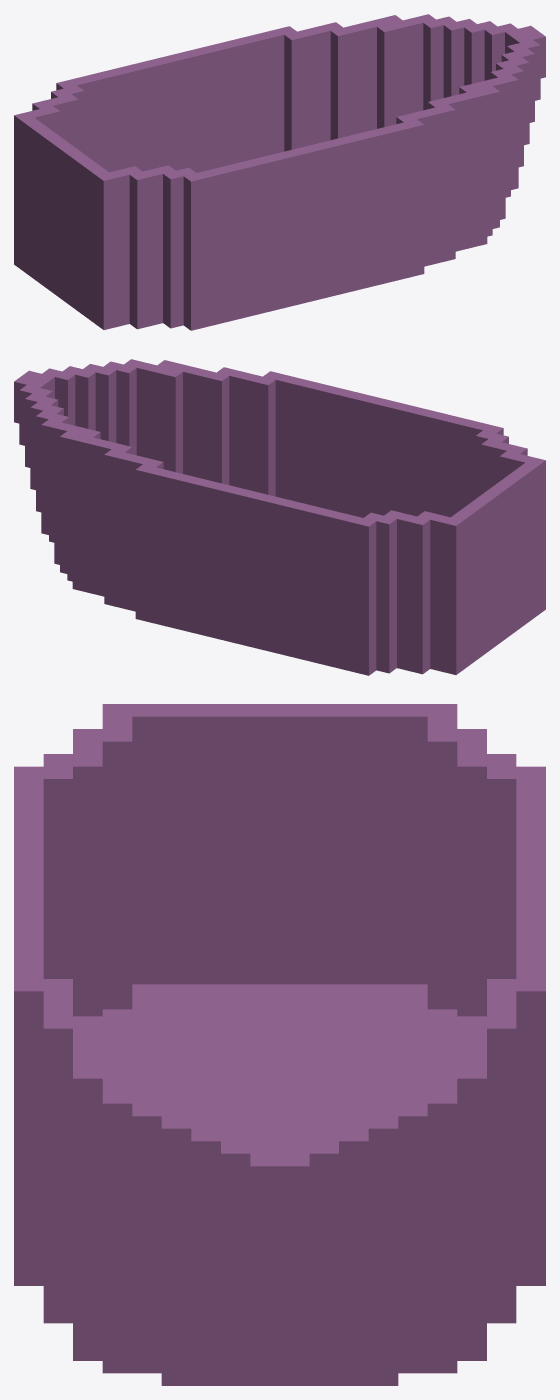
The model's file is boat.obj.
3 renders of one model, top to bottom at view 1: azimuth 30°, elevation 25°; view 2: azimuth 150°, elevation 25°; view 3: azimuth 270°, elevation 25°, orthographic. The views are drawn at different scales.
Size of the model in its own units: 3.7 by 1.1 by 1.8.
Materials: 1 (1 with a texture image).
